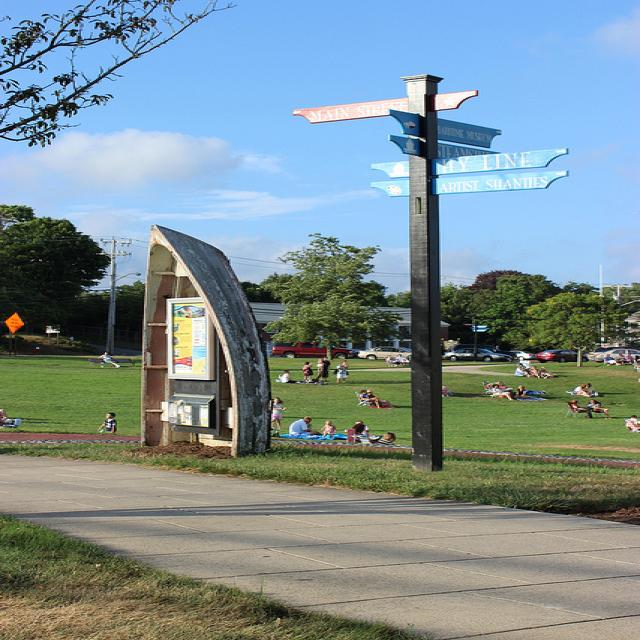Vehicle: (272, 340, 356, 359), (443, 348, 511, 362), (358, 346, 411, 362), (537, 349, 588, 363), (594, 349, 640, 362), (506, 350, 536, 359)
